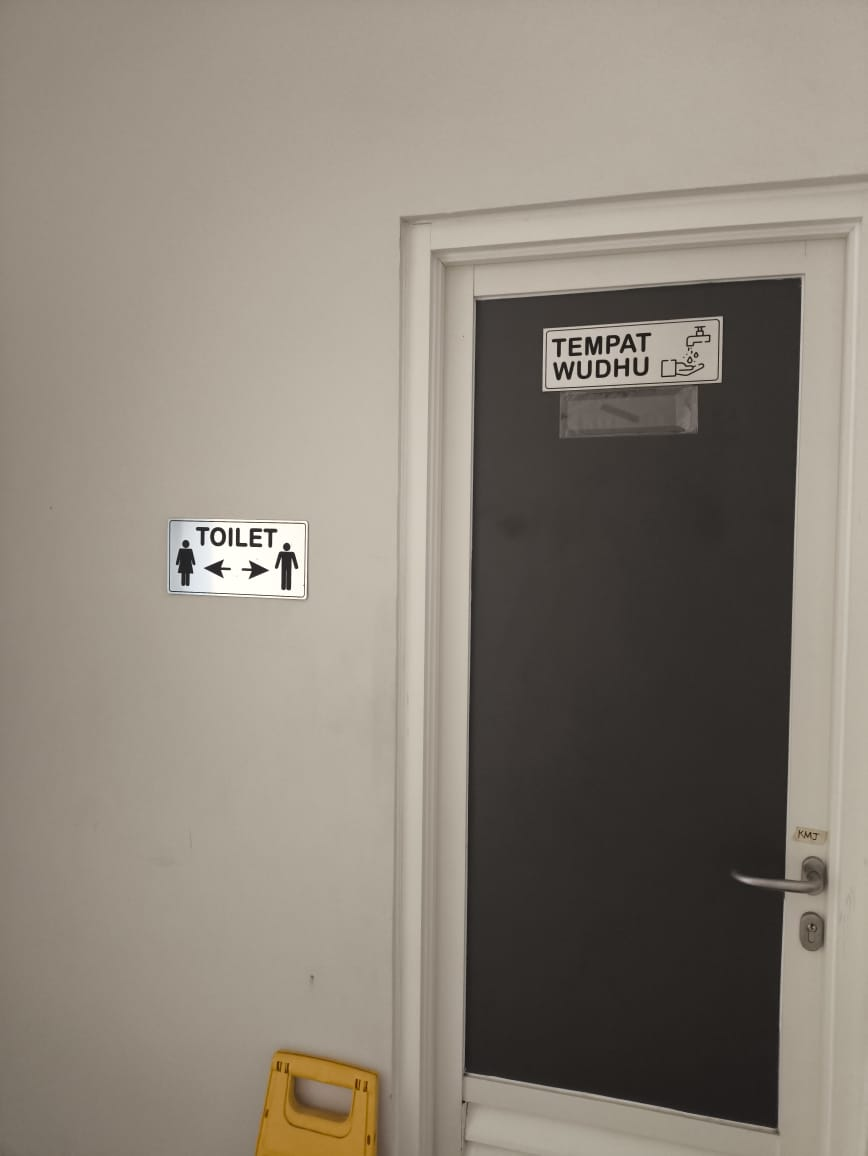tempat wudhu: (524, 308, 729, 399)
toilet: (151, 514, 324, 606)
